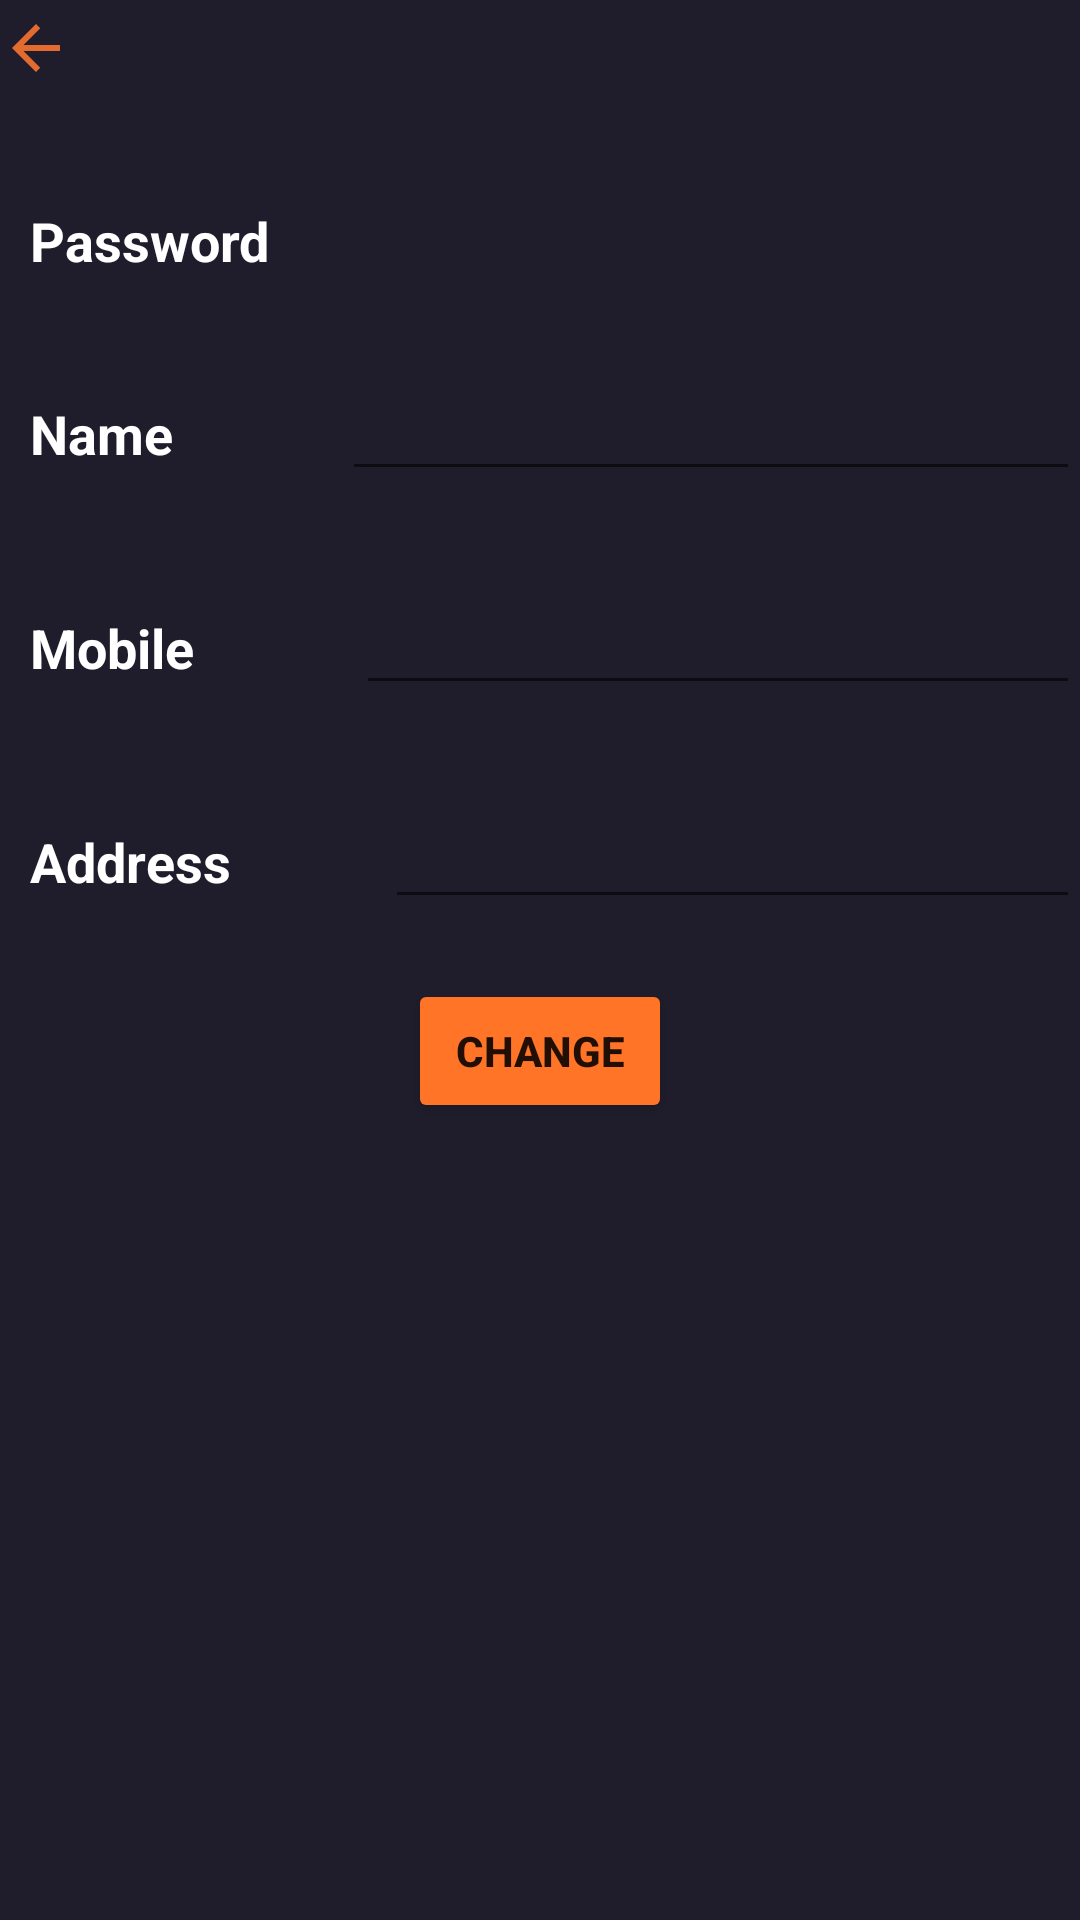

Locate icon controls on the screen. Image size 1080px×1920px, boxes as (x1, y1, x2, y2).
arrow back: (12, 24, 60, 72)
